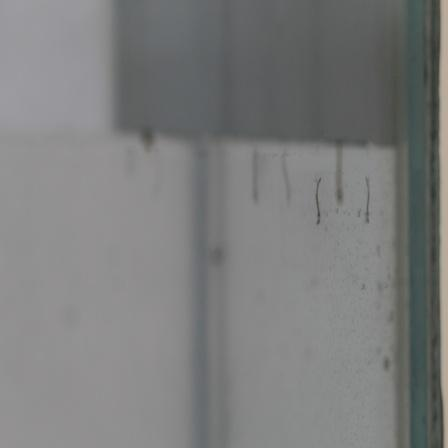Jentik-Nyamuk: (307, 172, 328, 228)
